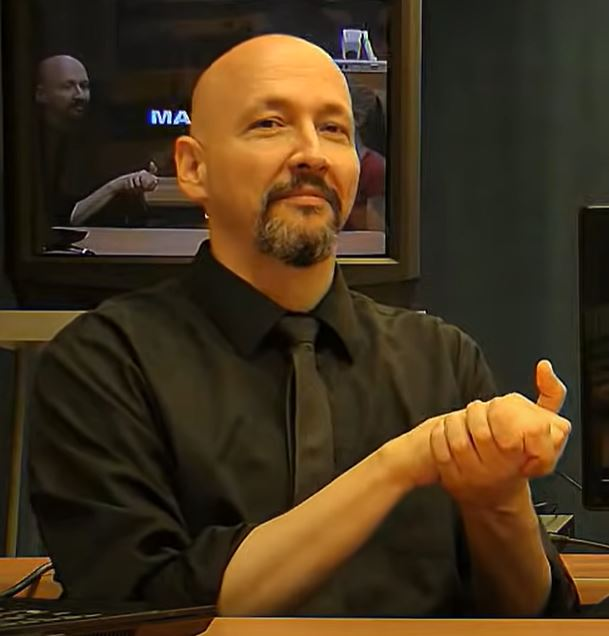Marriage: (387, 352, 589, 529)
